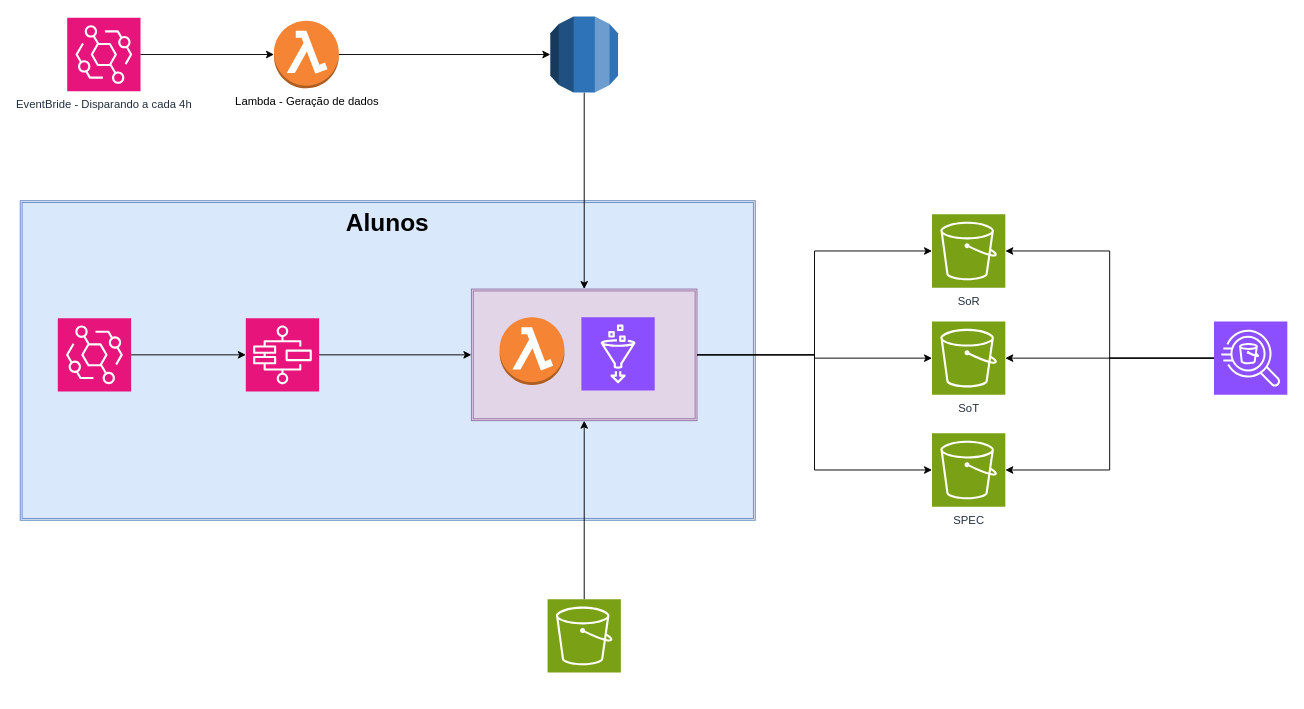
The diagram is 1304 pixels wide and 709 high, and some of its shapes have lost their labels. Here are the shapes that lost their labels. From the top down, the centre of each, then its label:
(583,54): RDS - Postgress
(1250,358): Athena
(584,635): bucket-data-source
